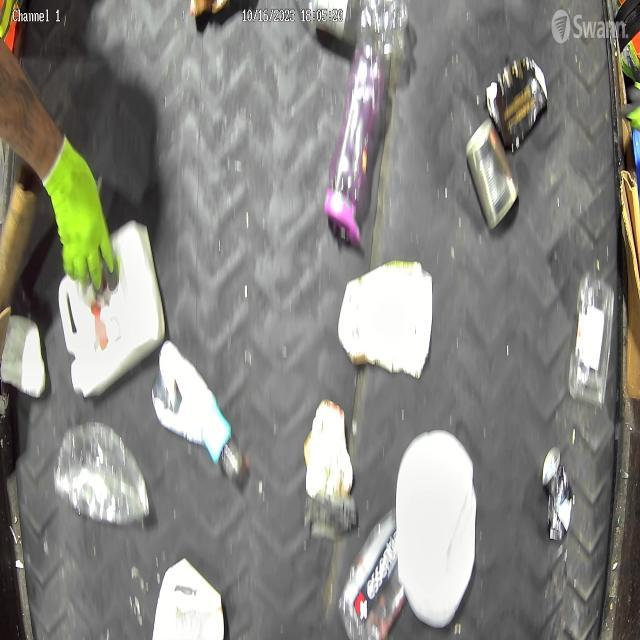can: (466, 118, 518, 232), (541, 446, 574, 542)
milk_jug: (57, 221, 166, 400), (396, 428, 478, 630)
